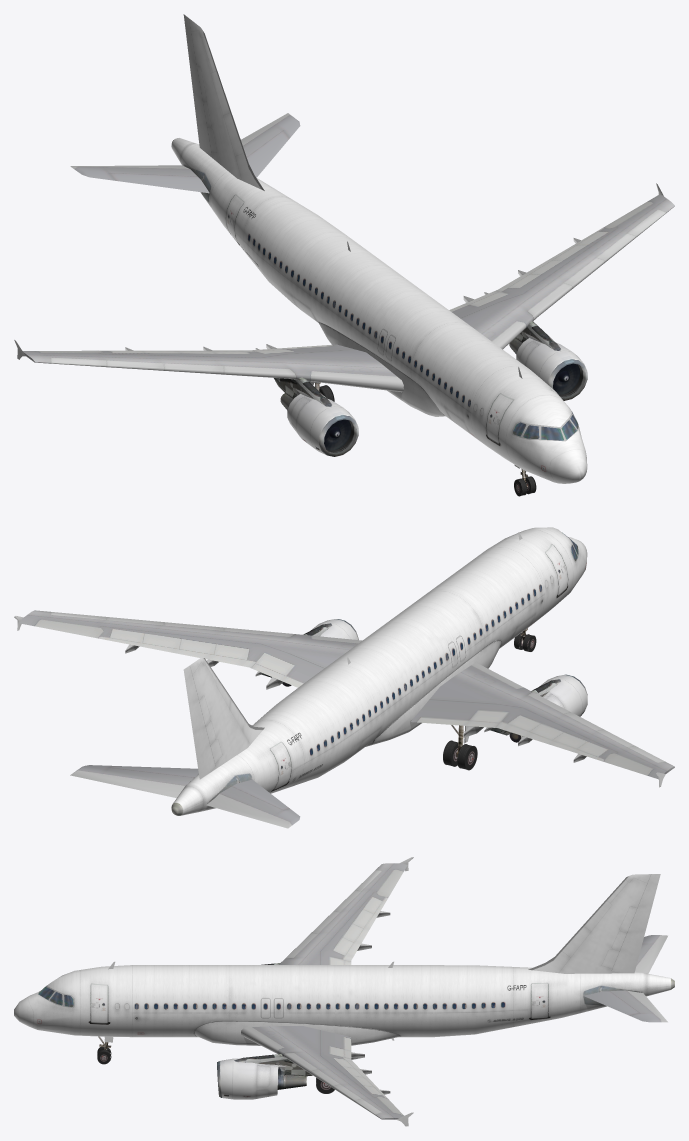
3 renders of one model, top to bottom at view 1: azimuth 30°, elevation 25°; view 2: azimuth 150°, elevation 25°; view 3: azimuth 270°, elevation 25°, orthographic. The views are drawn at different scales.
Visible parts, largest first — view 1: body; view 2: body, gear; view 3: body, gear.
Part boxes in pixels (x1,y1,x2,y2): body: (14, 14, 674, 483); body: (14, 527, 674, 828); gear: (443, 630, 536, 770); body: (14, 857, 674, 1126); gear: (97, 1042, 334, 1093).
Size of the model in its own units: 34.34 by 11.77 by 37.57.
Materials: 6 (6 with a texture image).
